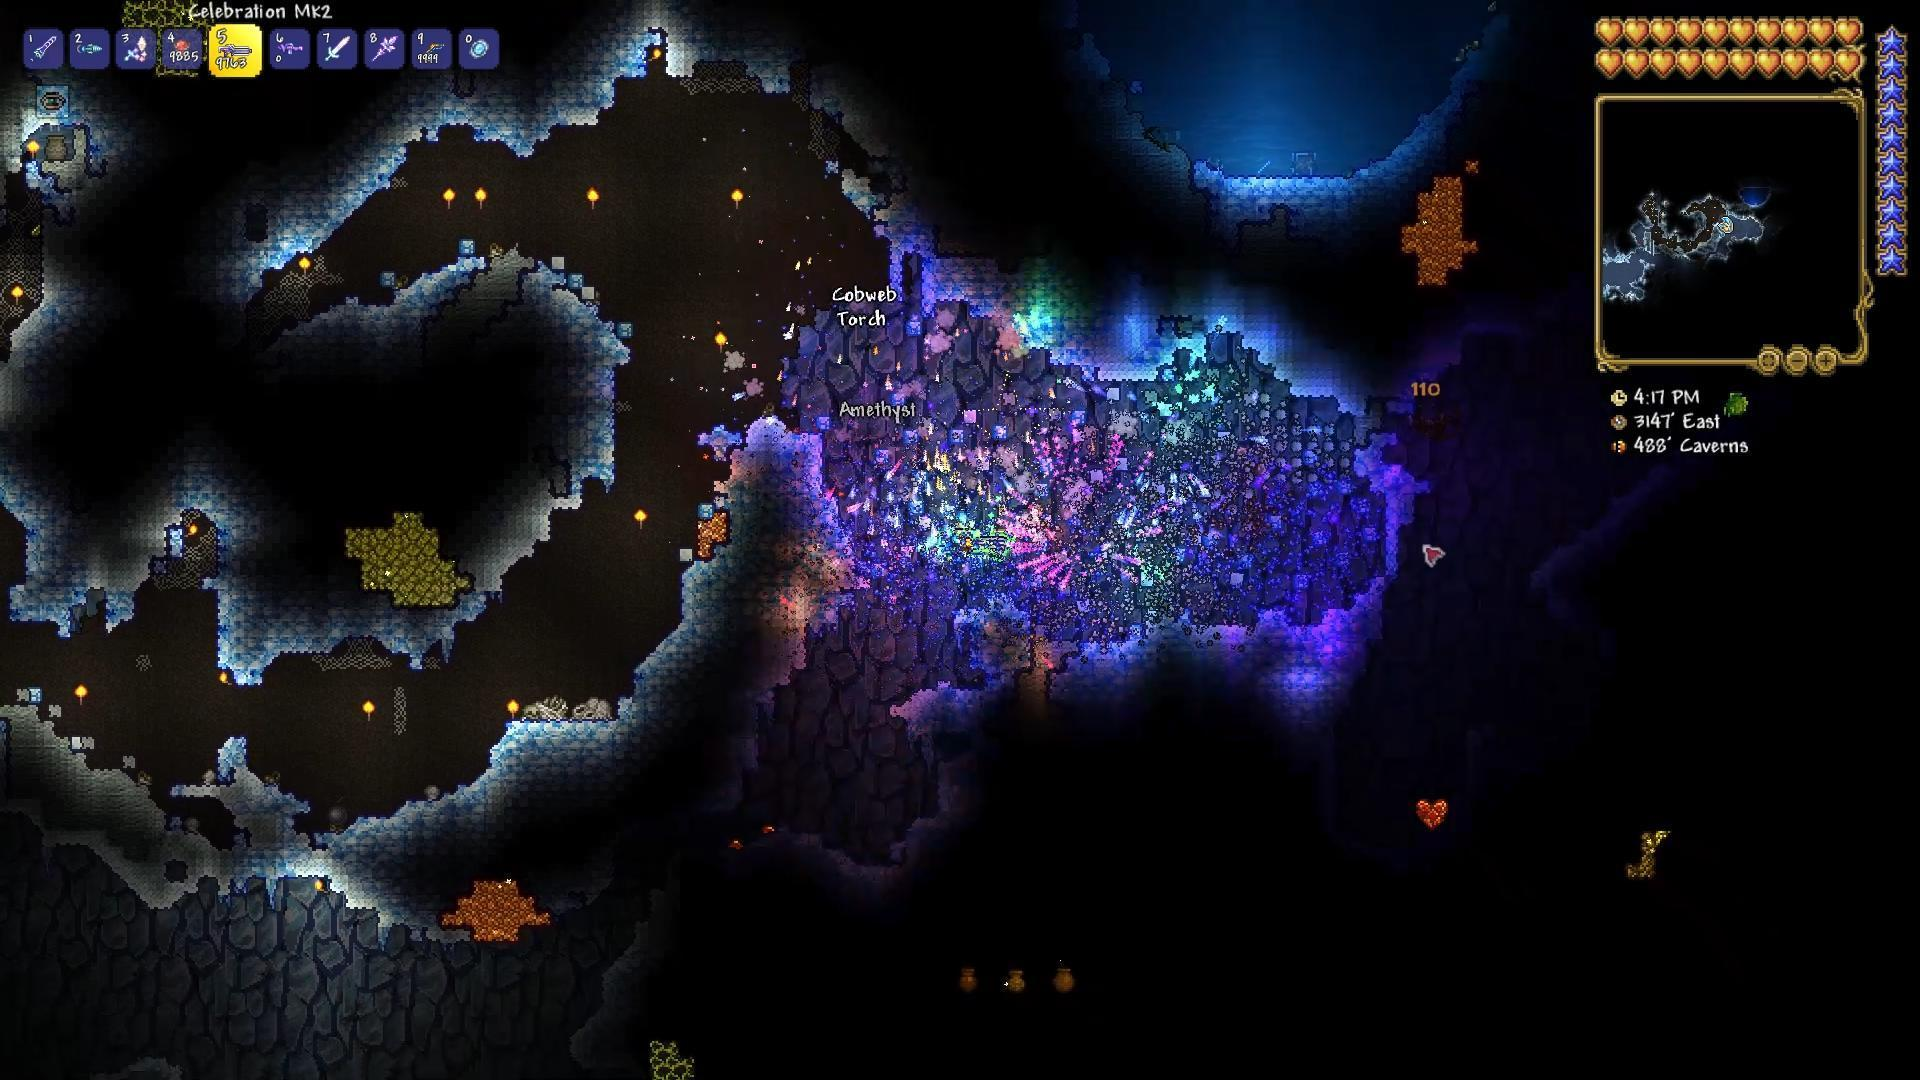cobwebT: (389, 687, 410, 732)
lifeC: (1411, 796, 1455, 832)
